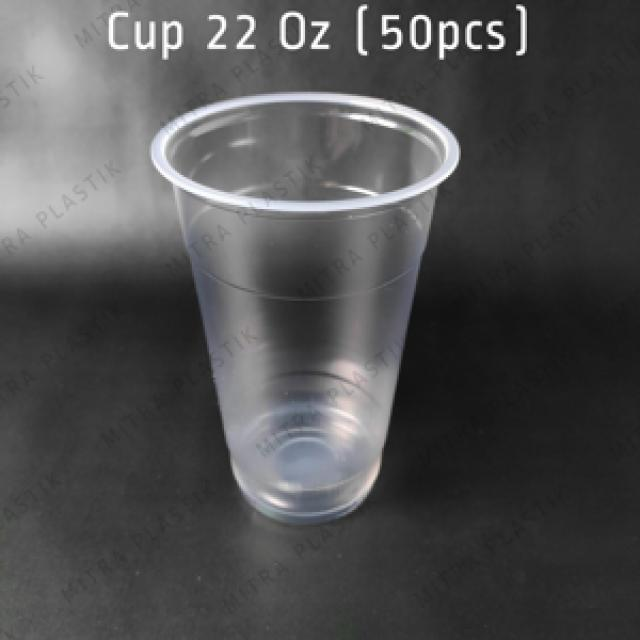plastic cup: (147, 84, 465, 534)
